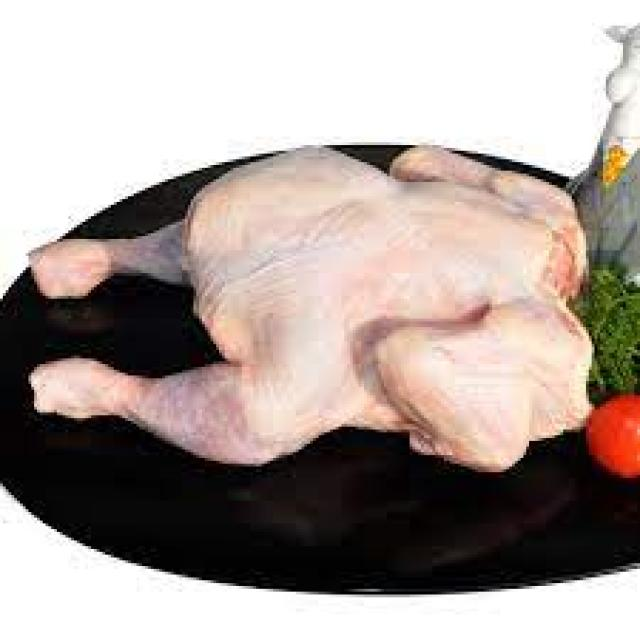chicken: (24, 128, 608, 476)
